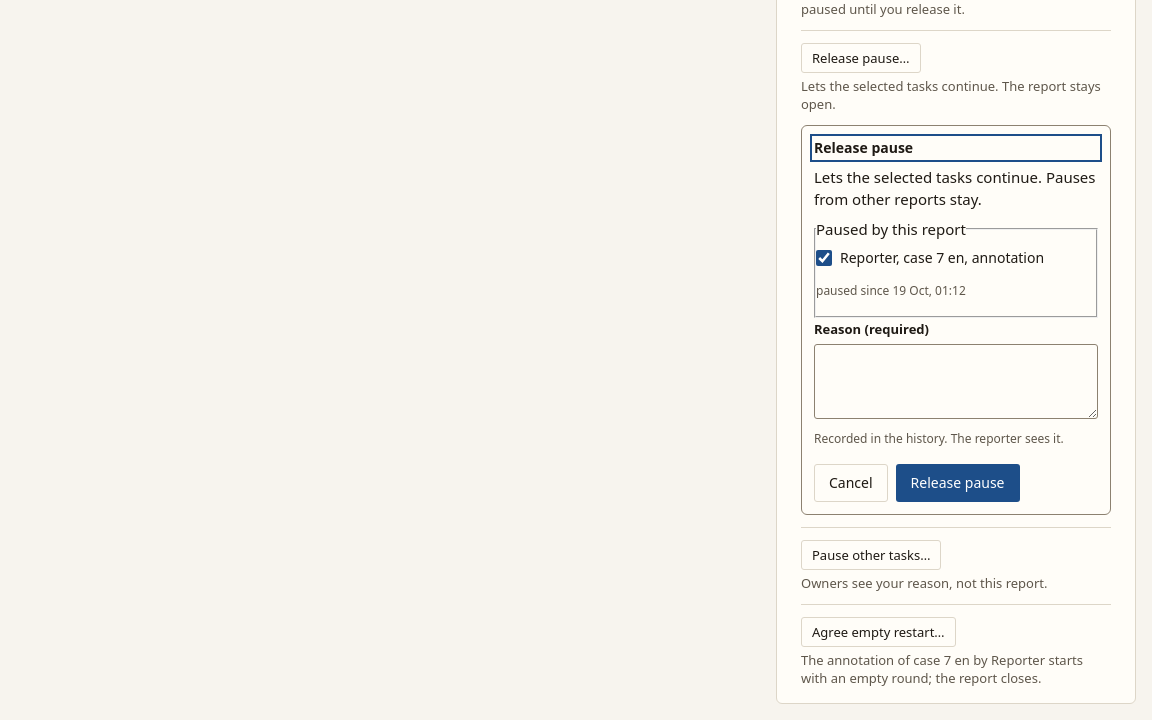
Test case: records a resume in the Documents visit state when entered from Documents
(page scrolled)
In the text box: (956, 382) [814,344,1098,419], type "Done"
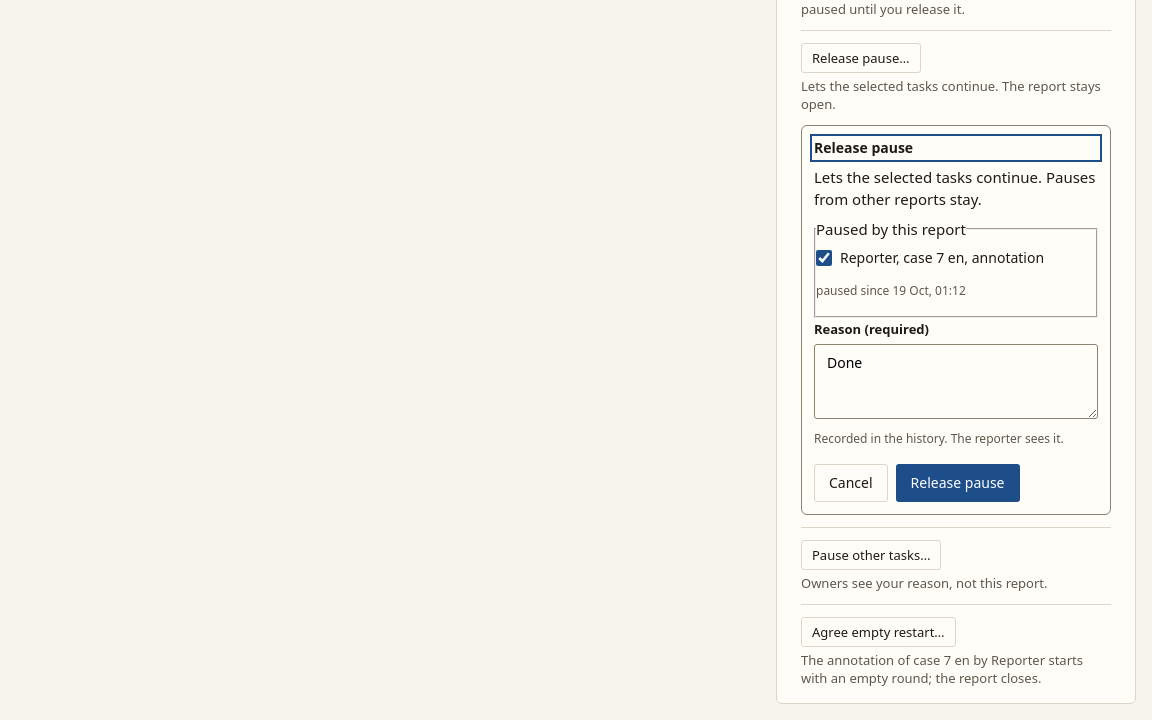
Click the button "Release pause": (958, 483) [896,464,1020,502]
(page scrolled)
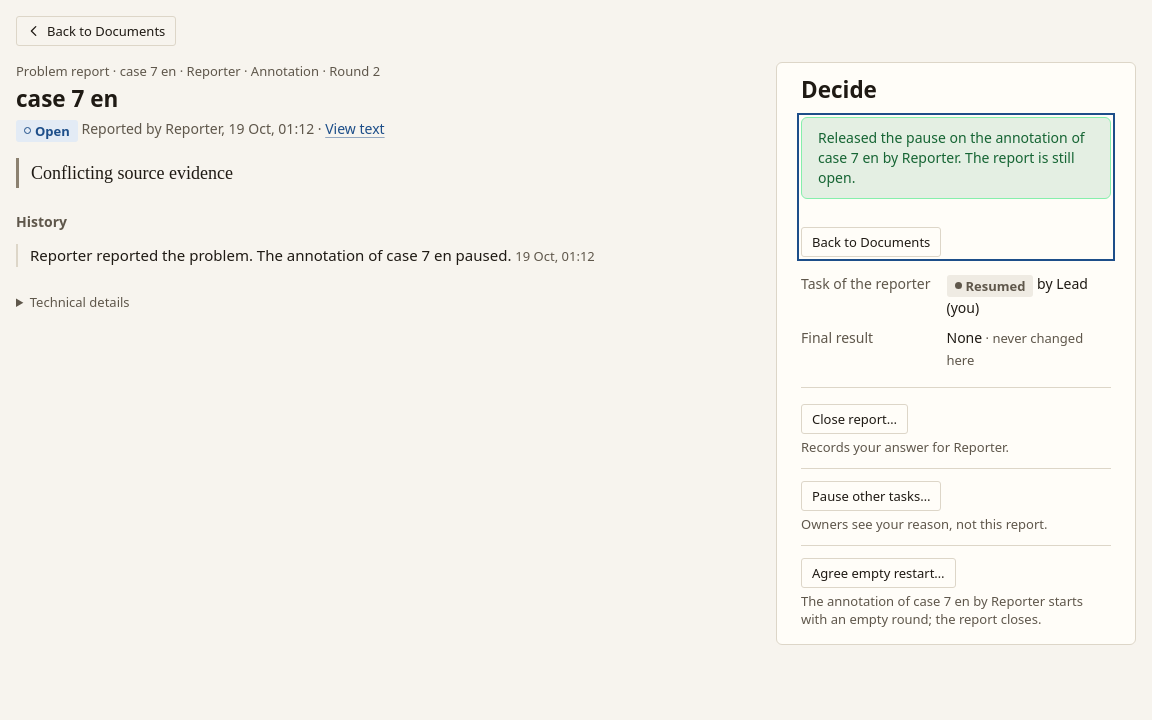
Expected: the text "Released the pause" is shown, [818,128,1085,187]
